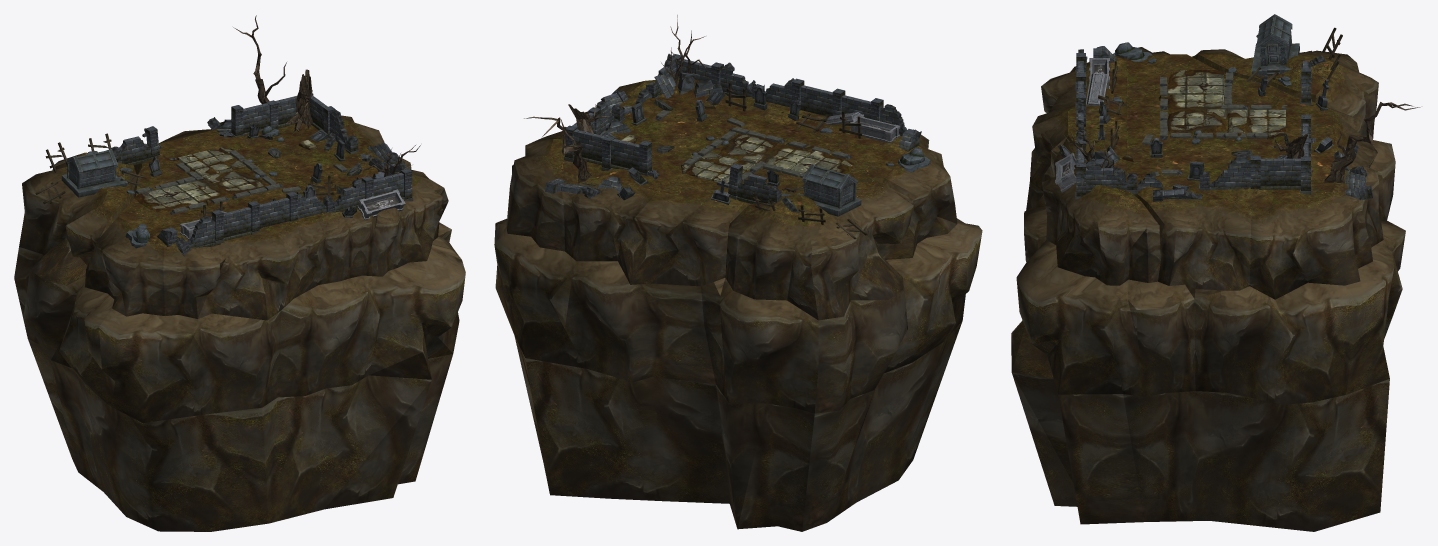
Rendered from cell2LU_RD.fbx.
The picture shows the model from 3 angles, left to right: view 1: azimuth 30°, elevation 25°; view 2: azimuth 150°, elevation 25°; view 3: azimuth 270°, elevation 25°; orthographic projection. The views are drawn at different scales.
Visible parts, largest first — view 1: cell2LU_RD; view 2: cell2LU_RD; view 3: cell2LU_RD.
Part boxes in pixels (bbox=[...]): cell2LU_RD: bbox=[14, 15, 465, 531]; cell2LU_RD: bbox=[494, 15, 982, 531]; cell2LU_RD: bbox=[1011, 14, 1420, 531].
Bounding box in the file's own units: 24.55 × 23.1 × 20.99.
